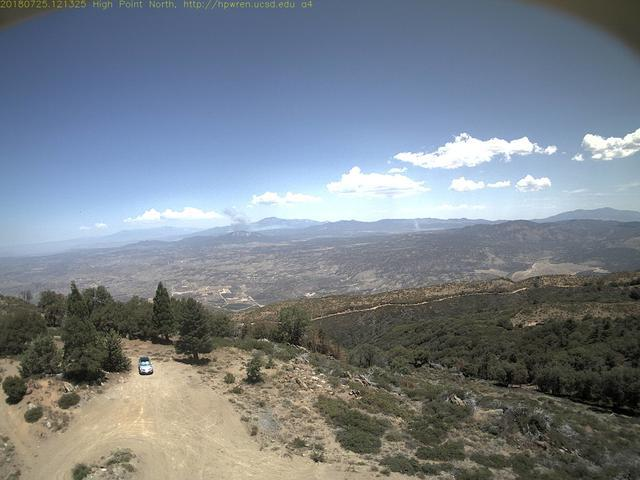smoke: (217, 204, 254, 240)
